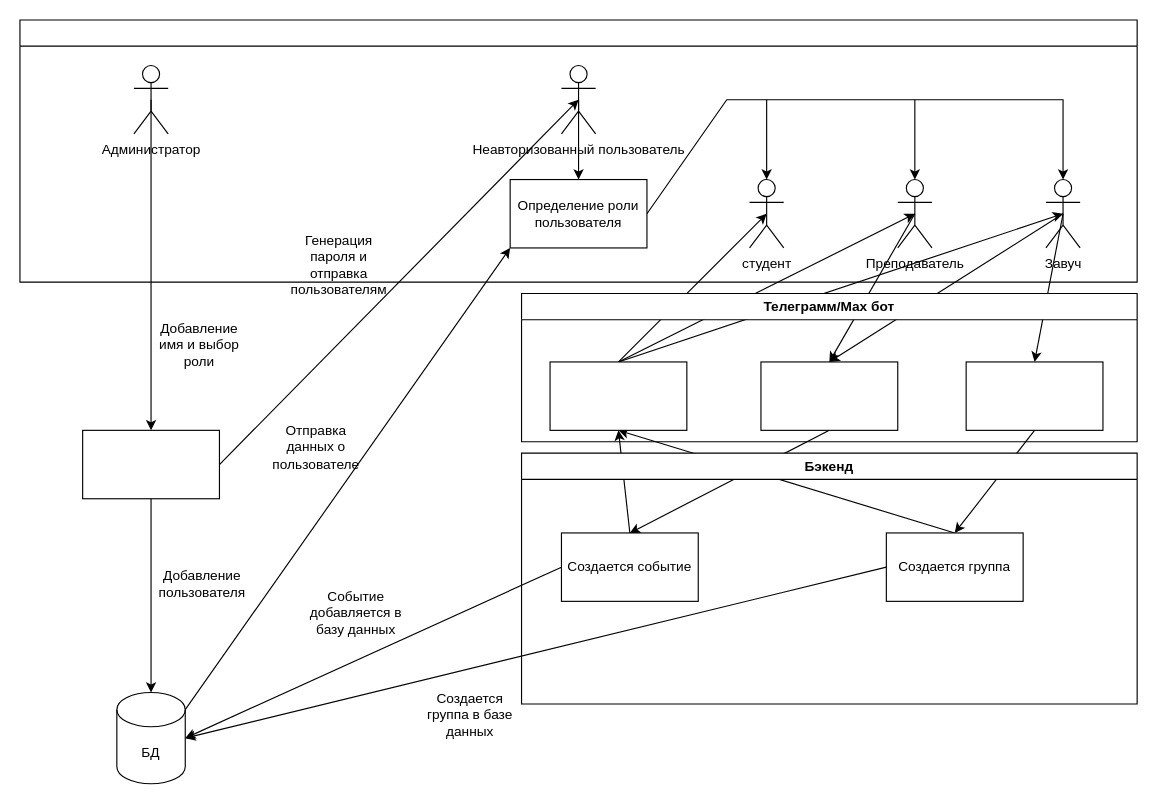
This 1157x804 diagram has some shape labels left out. The centre of each missing label's shape, as x and y in pixels:
Внешние сущности: (578,150)
Отправка оповещения пользователю: (618,395)
Создание группы пользователей: (1034,395)
Создание новых пользователей и наделение их правами: (150,464)
Создание оповещения: (829,395)
